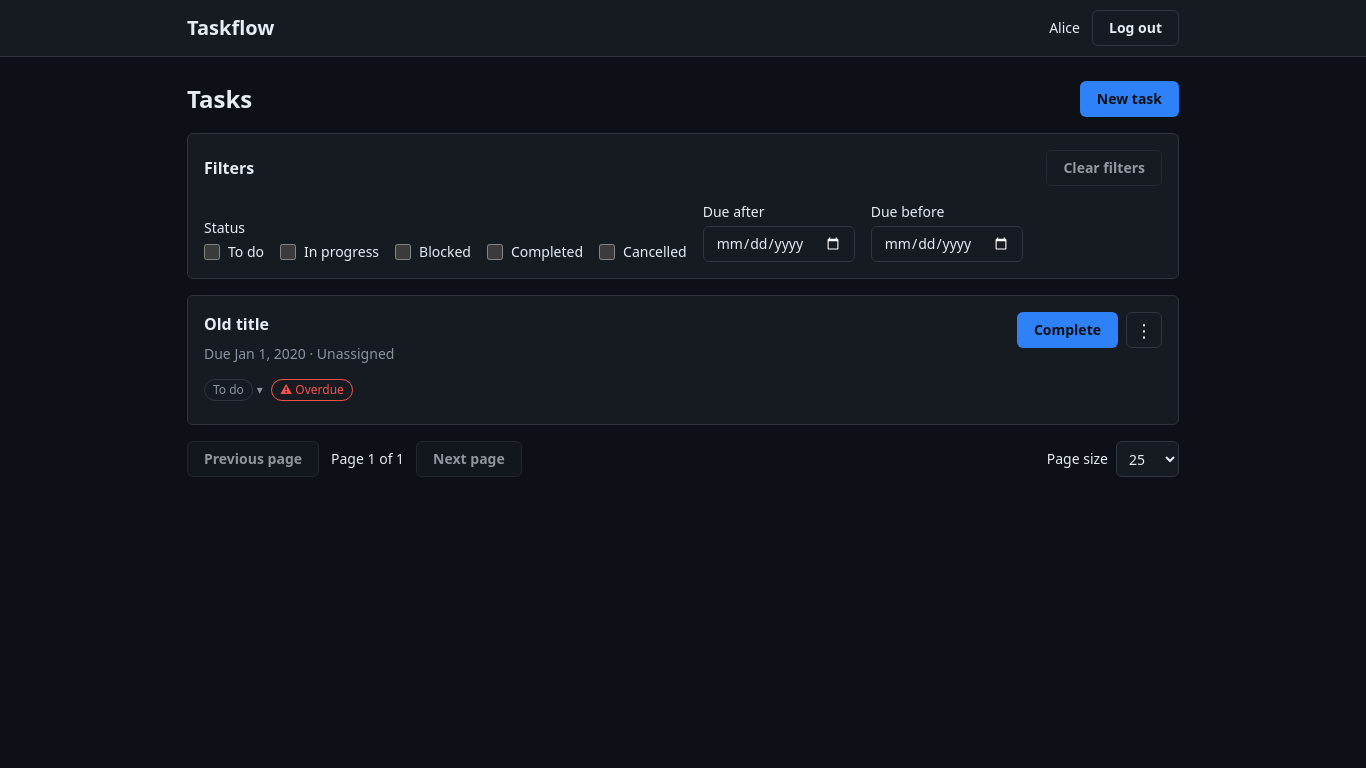
Test: task form › test_ac06_editing_sends_only_changed_fields_and_does_not_reject_a_past_due_date
Click the button named "actions for": point(1144, 330) [1126,312,1162,348]
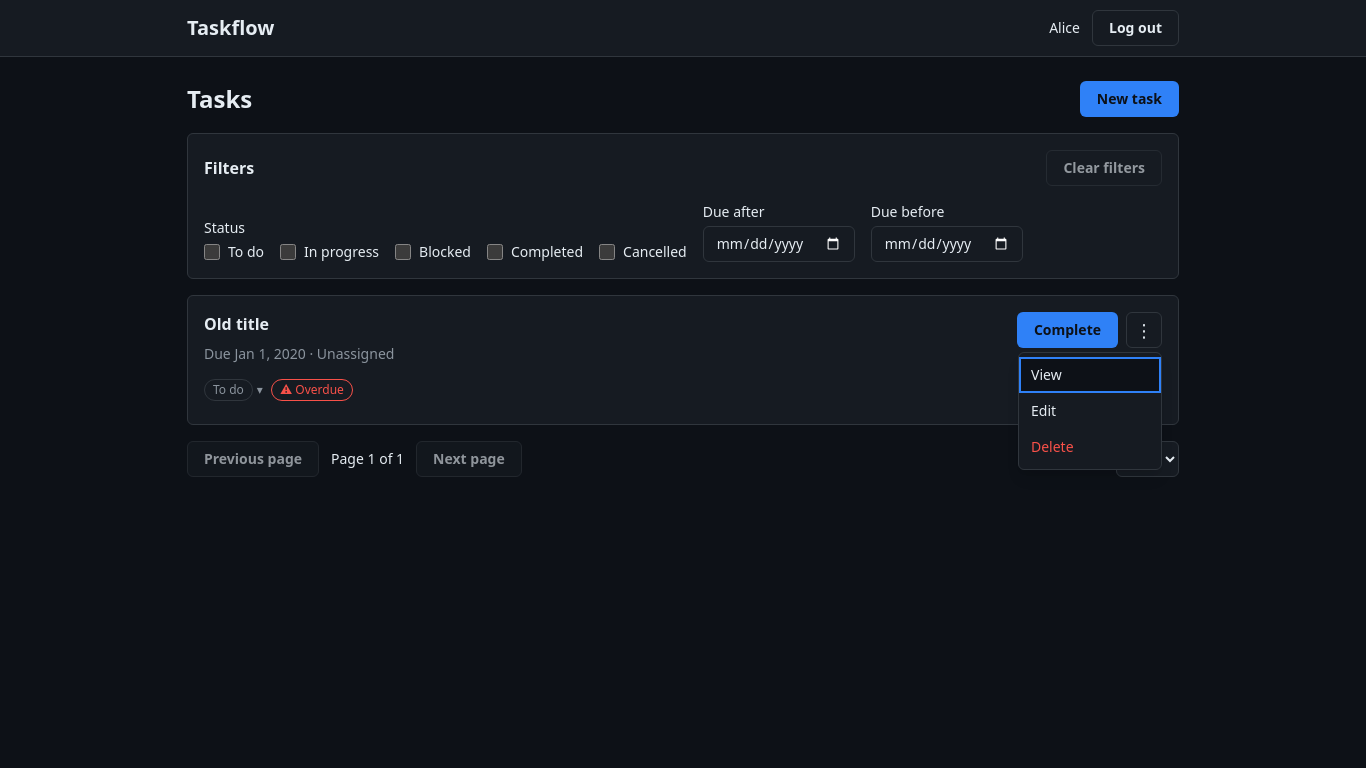
Click the menu item "Edit": point(1090, 411) [1019,393,1161,429]
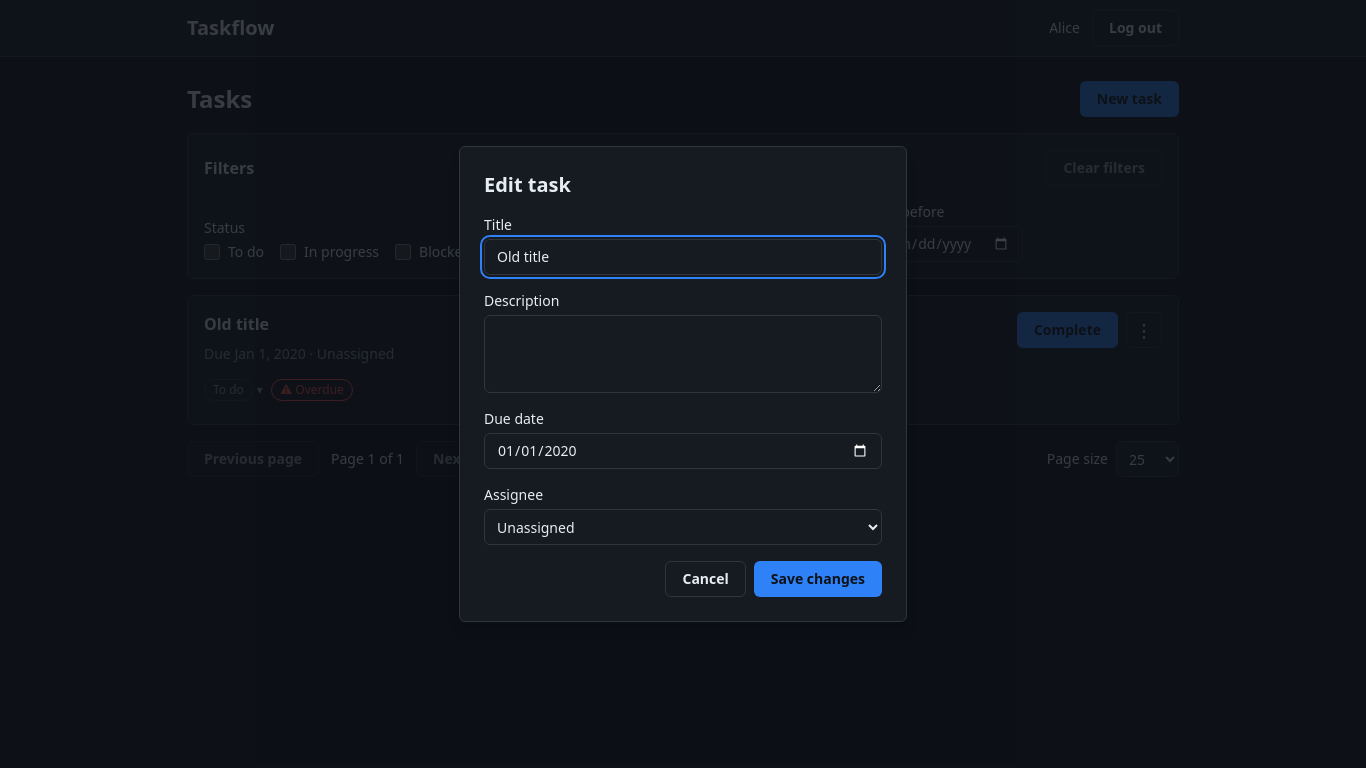
Now the field labelled "Title" holds "Old title"
Replace the text in the field labelled "Title" with "New title": point(683, 257) [484,239,882,275]
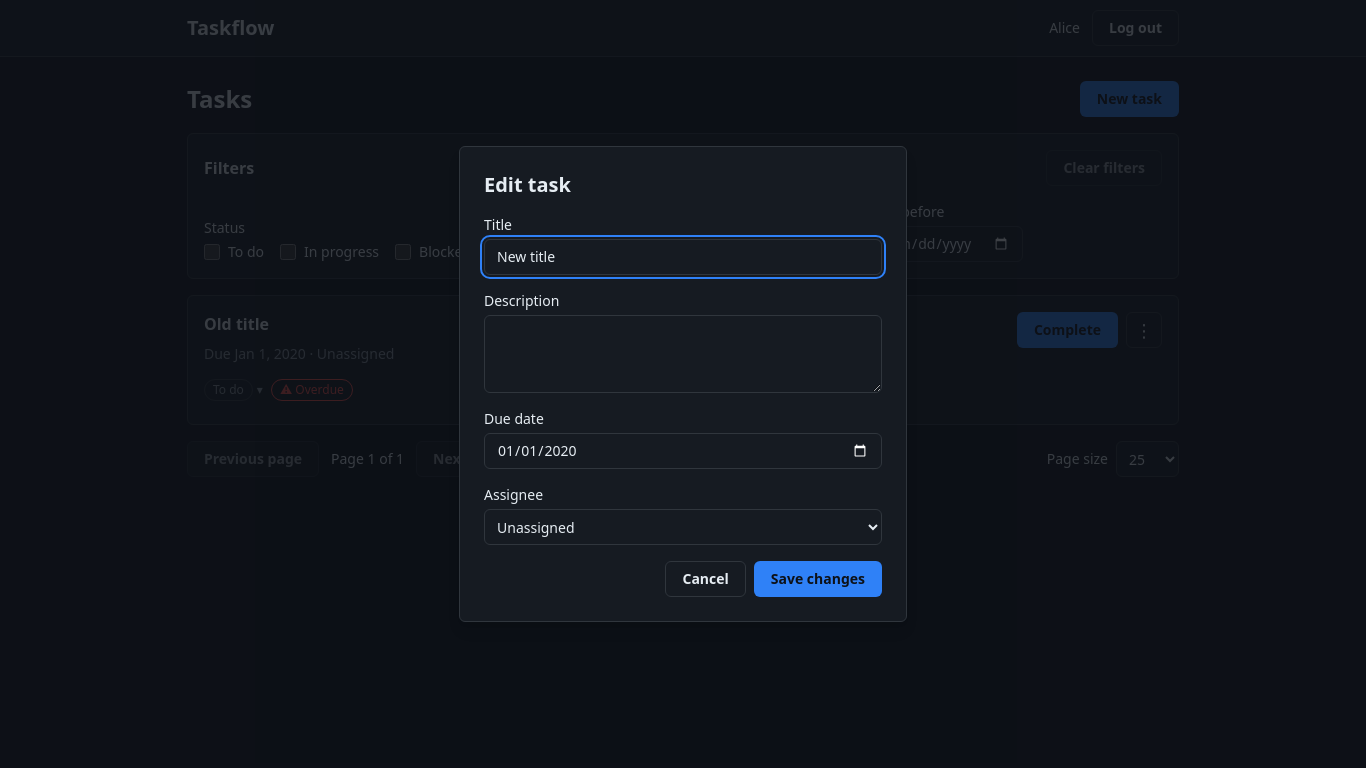
Click the button "Save changes": point(818, 579) [754,561,882,597]
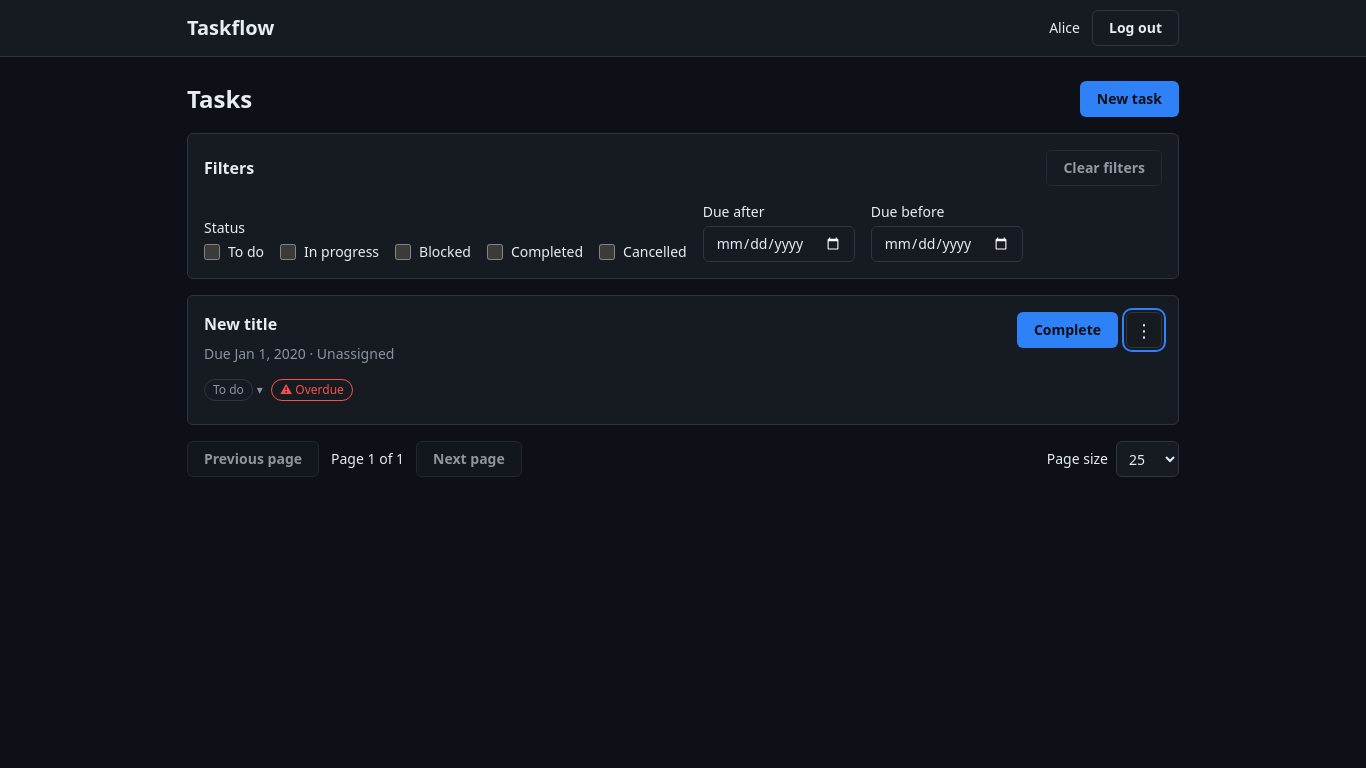
Now the list item "New title" is shown, box [187,295,1179,425]
Now the dialog is gone
